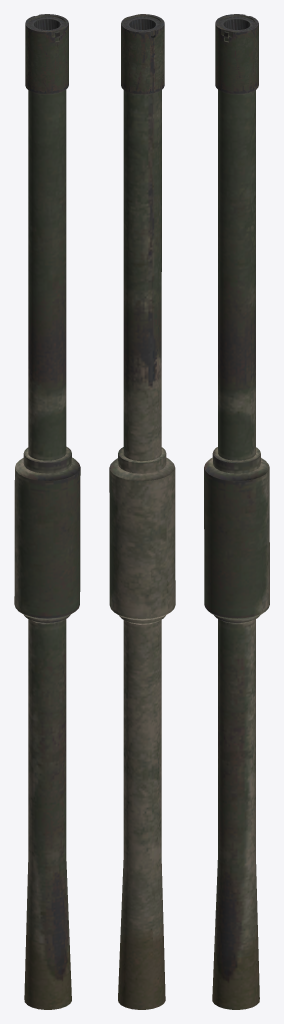
The model's file is Gun_02.glb.
3 views of the same model, side by side, from view 1: azimuth 30°, elevation 25°; view 2: azimuth 210°, elevation 25°; view 3: azimuth 330°, elevation 25° (orthographic).
Parts seen in each view (by area): view 1: set_0_group_0; view 2: set_0_group_0; view 3: set_0_group_0.
Part boxes in pixels (x1=…): set_0_group_0: x1=14, y1=14, x2=80, y2=1009; set_0_group_0: x1=109, y1=14, x2=175, y2=1009; set_0_group_0: x1=204, y1=14, x2=269, y2=1009.
Size of the model in its own units: 0.2649 by 4.32 by 0.2625.
Materials: 1 (1 with a texture image).
